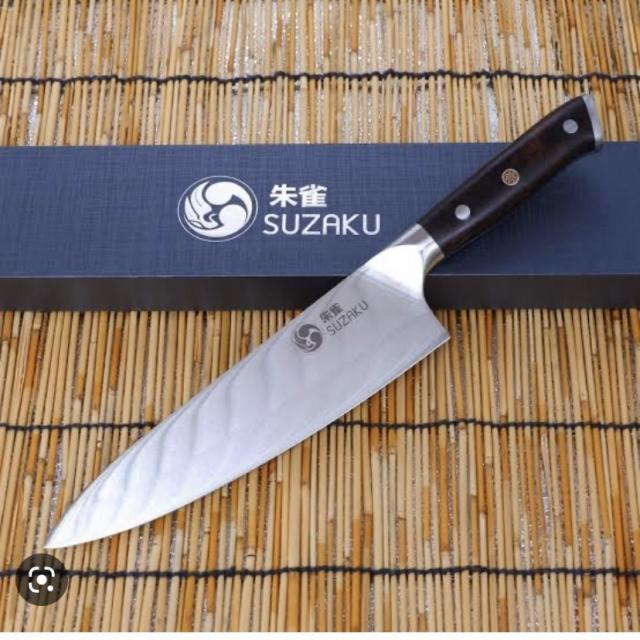Knife: (37, 85, 622, 558)
